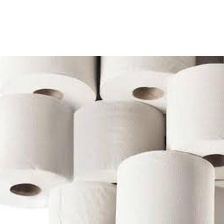tissue: (0, 91, 78, 213), (68, 97, 168, 189), (163, 59, 224, 192), (113, 147, 218, 224), (97, 56, 200, 113), (0, 56, 100, 113), (43, 177, 114, 224)
